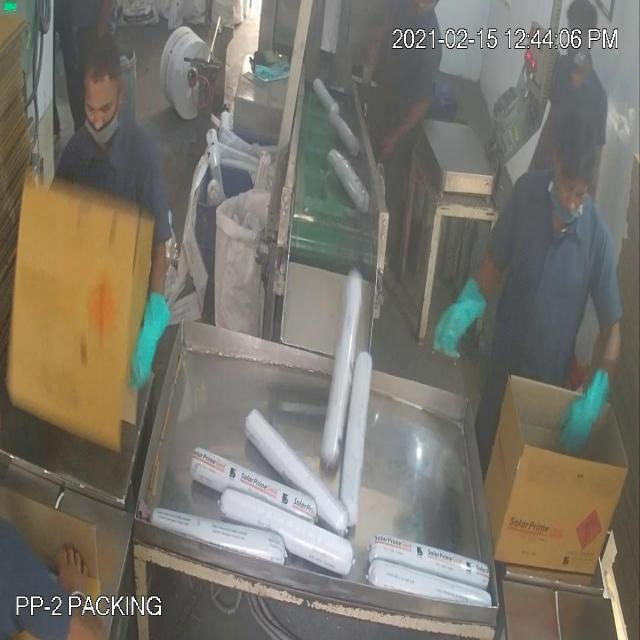Gloves: (52, 65, 581, 570)
